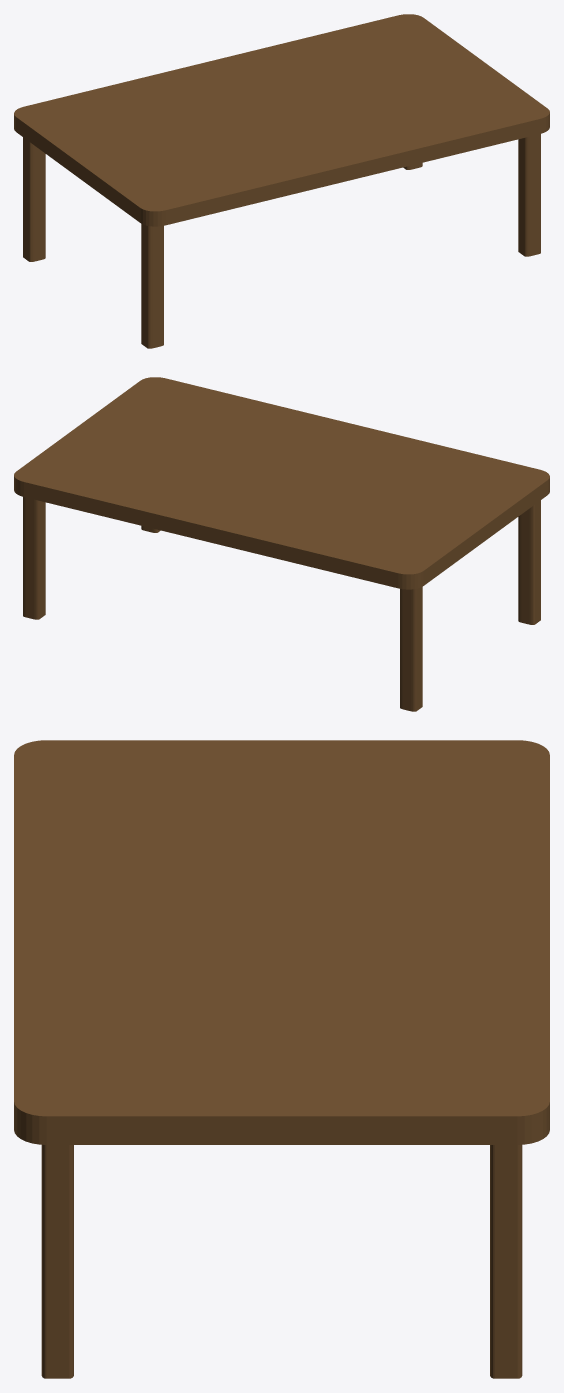
The model's file is table.fbx.
3 views of the same model, one above another, from view 1: azimuth 30°, elevation 25°; view 2: azimuth 150°, elevation 25°; view 3: azimuth 270°, elevation 25° (orthographic). The views are drawn at different scales.
Visible parts, largest first — view 1: Table; view 2: Table; view 3: Table.
Boxes of the visible parts, <box> form: Table: <box>14,14,549,348</box>; Table: <box>14,377,549,711</box>; Table: <box>14,740,549,1378</box>.
Size of the model in its own units: 957 by 1590 by 530.
